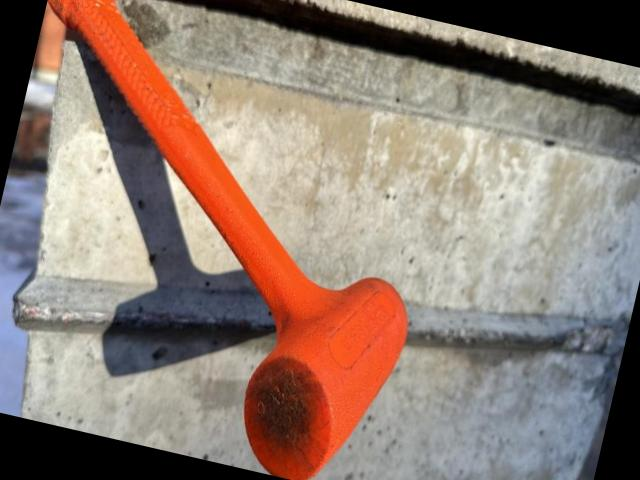hammer: (0, 0, 472, 480)
